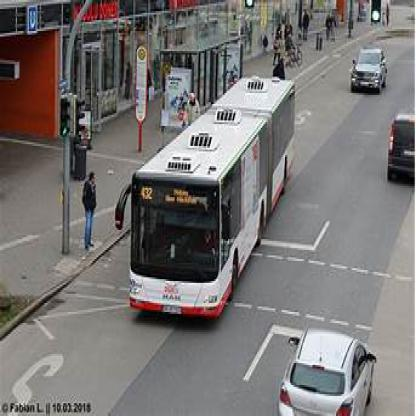bus: (138, 78, 297, 328)
car: (286, 328, 376, 415), (390, 114, 416, 191), (351, 47, 386, 100)
